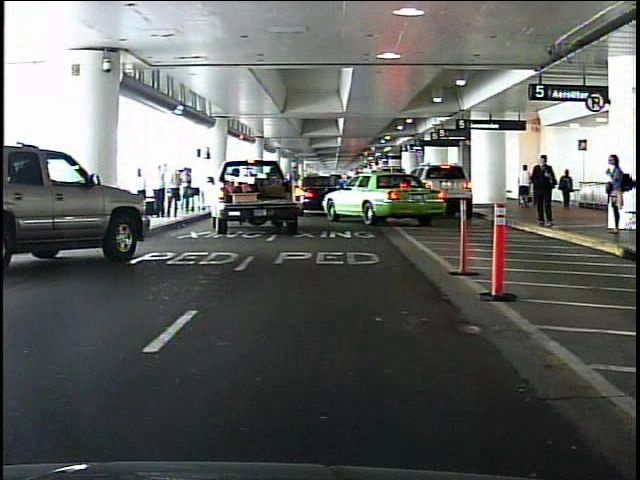person: (528, 149, 558, 231), (600, 151, 626, 239), (558, 168, 577, 211), (520, 163, 535, 209)
